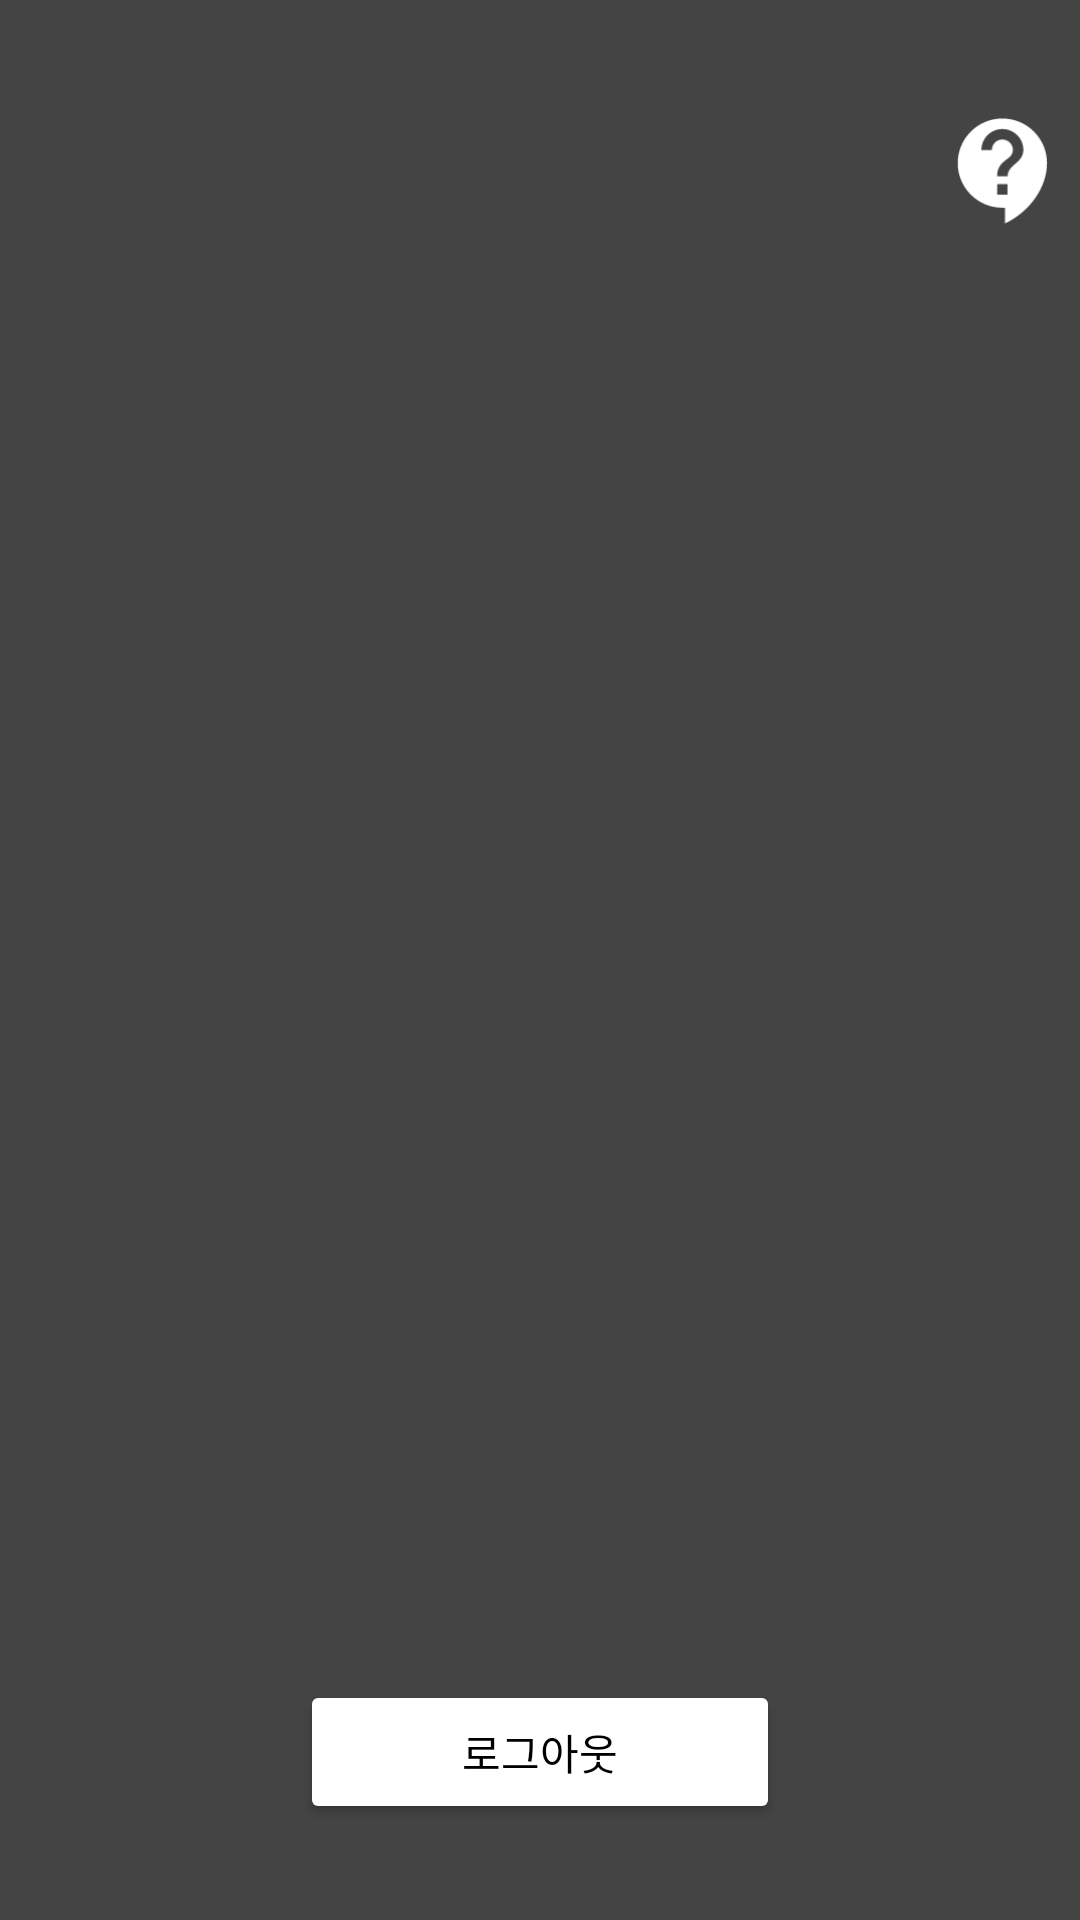

Icon bounding boxes for this 1080 × 1920 phone screenshot, format bbox=[x1, y1, x2, y2]:
도움말: bbox=[957, 118, 1048, 224]
